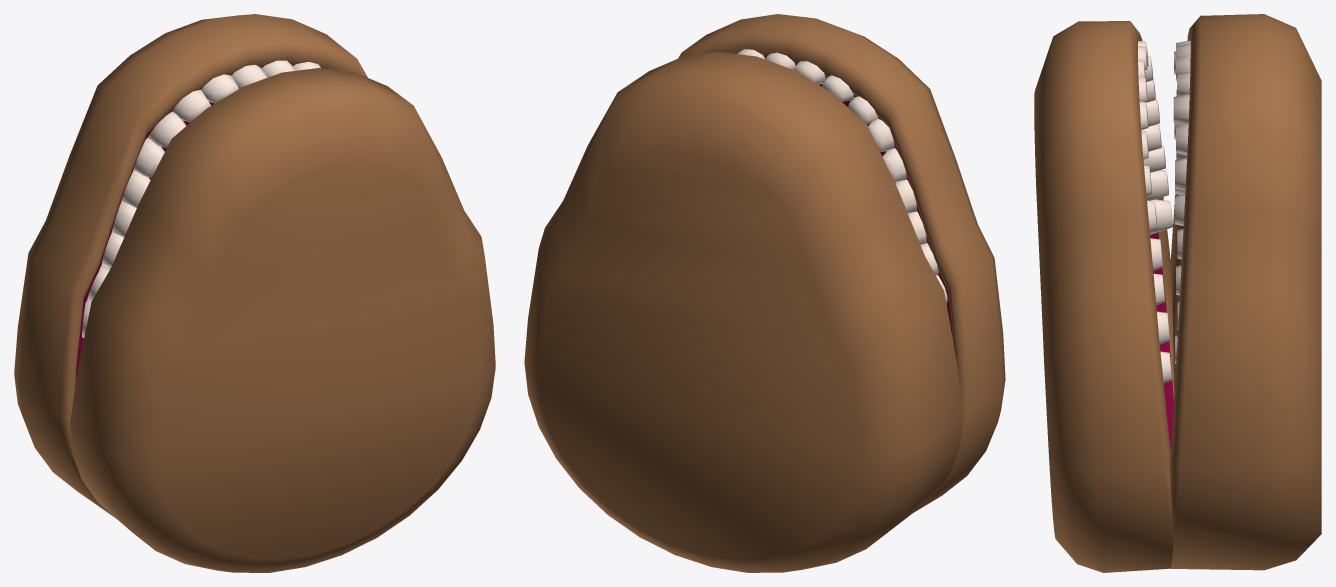
Rendered from Colgate™ Commercial.fbx.
3 views of the same model, side by side, from view 1: azimuth 30°, elevation 25°; view 2: azimuth 150°, elevation 25°; view 3: azimuth 270°, elevation 25° (orthographic). The views are drawn at different scales.
Visible parts, largest first — view 1: Colgate™ Commercial - Daniel Lochner; view 2: Colgate™ Commercial - Daniel Lochner; view 3: Colgate™ Commercial - Daniel Lochner.
Boxes of the visible parts, x1=… form: Colgate™ Commercial - Daniel Lochner: x1=14, y1=14, x2=495, y2=572; Colgate™ Commercial - Daniel Lochner: x1=524, y1=14, x2=1005, y2=572; Colgate™ Commercial - Daniel Lochner: x1=1034, y1=14, x2=1321, y2=572.
Bounding box in the file's own units: 74.1 × 88.12 × 44.67.
